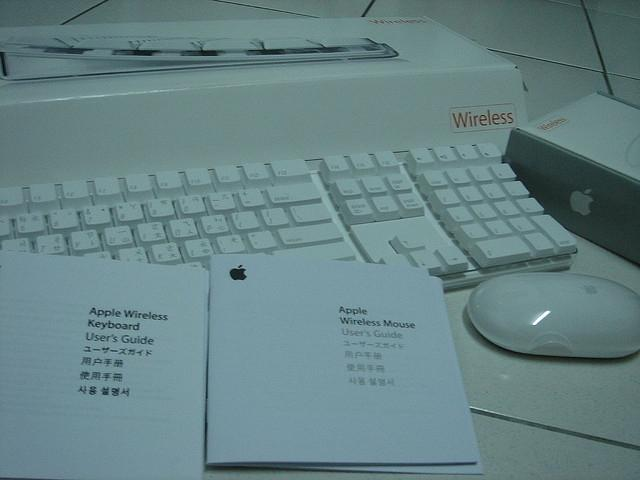apple: (570, 191, 594, 216), (230, 268, 248, 280), (584, 284, 598, 294)
